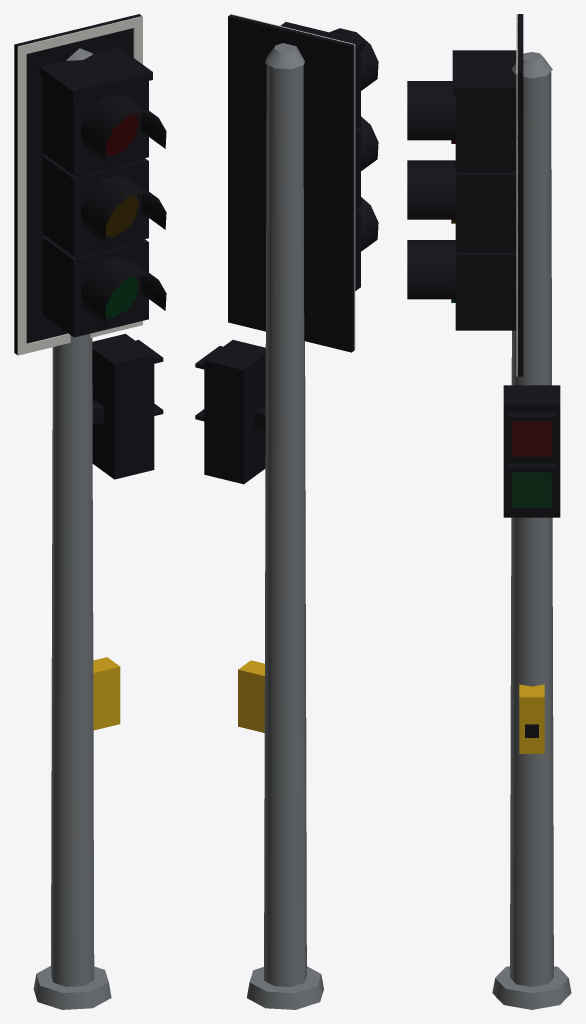
Rendered from prop_traffic_light.glb.
3 views of the same model, side by side, from view 1: azimuth 30°, elevation 25°; view 2: azimuth 150°, elevation 25°; view 3: azimuth 270°, elevation 25° (orthographic).
Parts seen in each view (by area): view 1: signal_vc, lens_red, lens_amber, lens_green; view 2: signal_vc; view 3: signal_vc.
Boxes of the visible parts, left/top/right/bottom form: signal_vc: left=14, top=14, right=166, bottom=1009; lens_red: left=105, top=114, right=138, bottom=155; lens_amber: left=105, top=195, right=138, bottom=236; lens_green: left=105, top=276, right=138, bottom=317; signal_vc: left=195, top=14, right=378, bottom=1009; signal_vc: left=407, top=14, right=571, bottom=1009.
Size of the model in its own units: 0.5646 by 3.7 by 0.5799.
